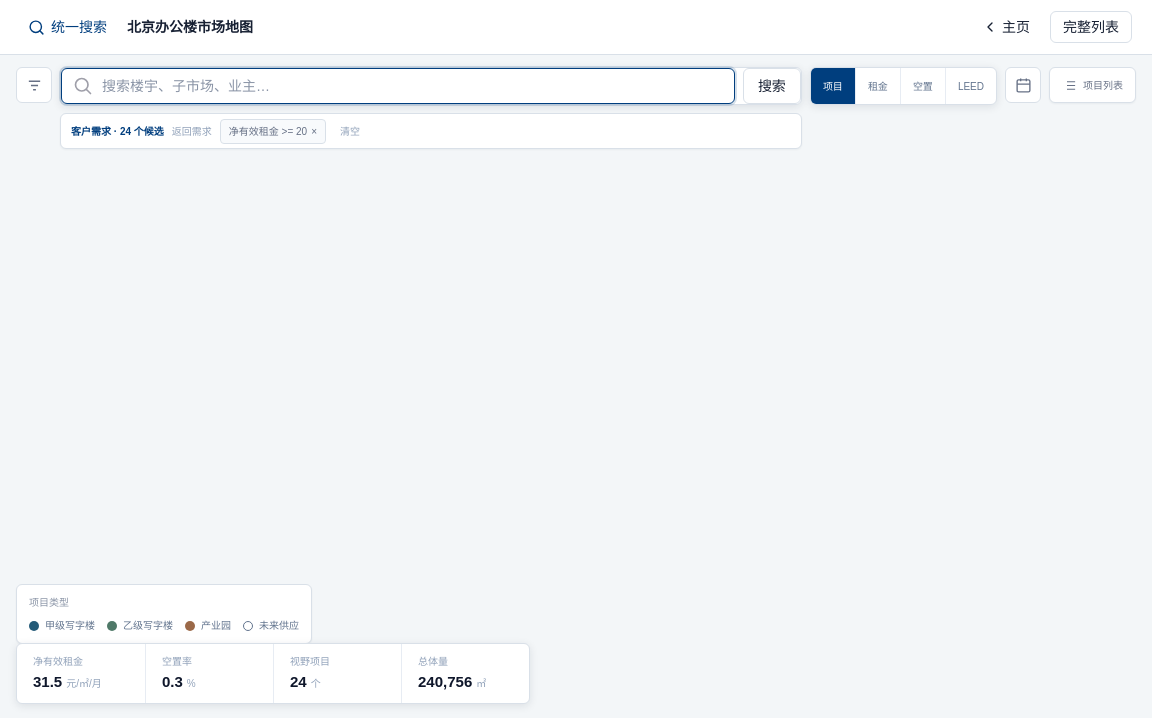
map search retains the active input › shares the query with the full list and can clear it without removing existing filters
The image size is (1152, 718).
Type "北城" into the search field at (398, 86), box [61, 68, 735, 104]
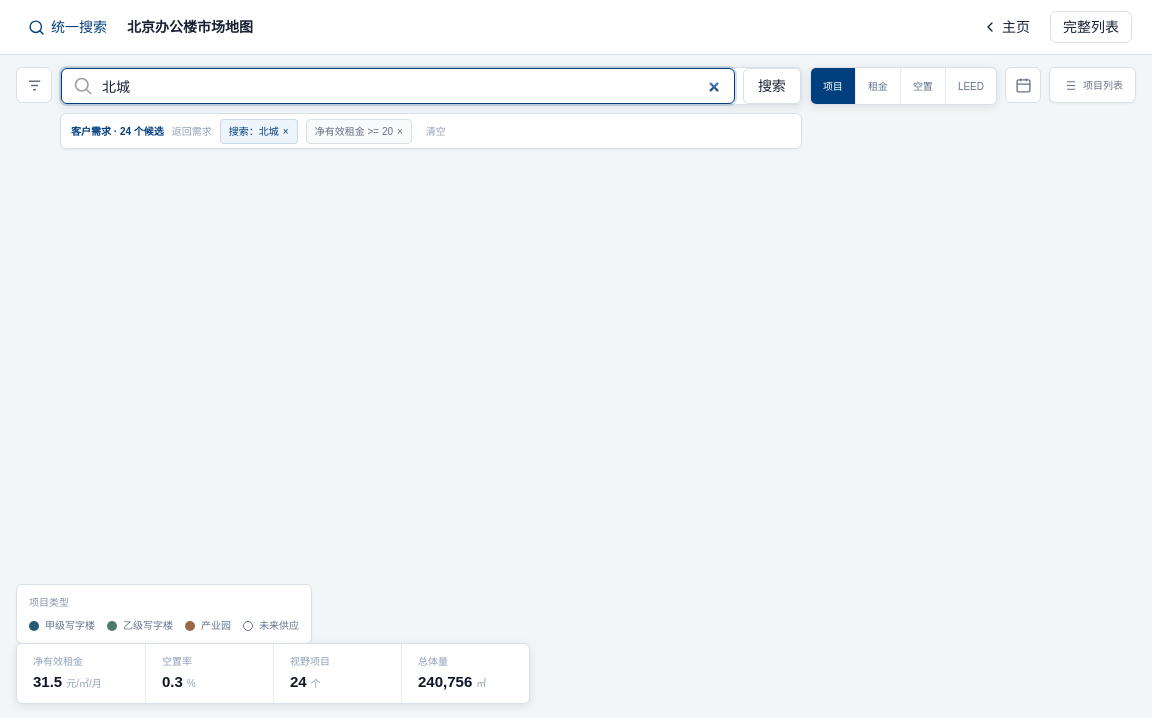
Press Enter in the search field, box [61, 68, 735, 104]
Click the button "完整列表" at (1091, 27), box [1050, 11, 1132, 43]
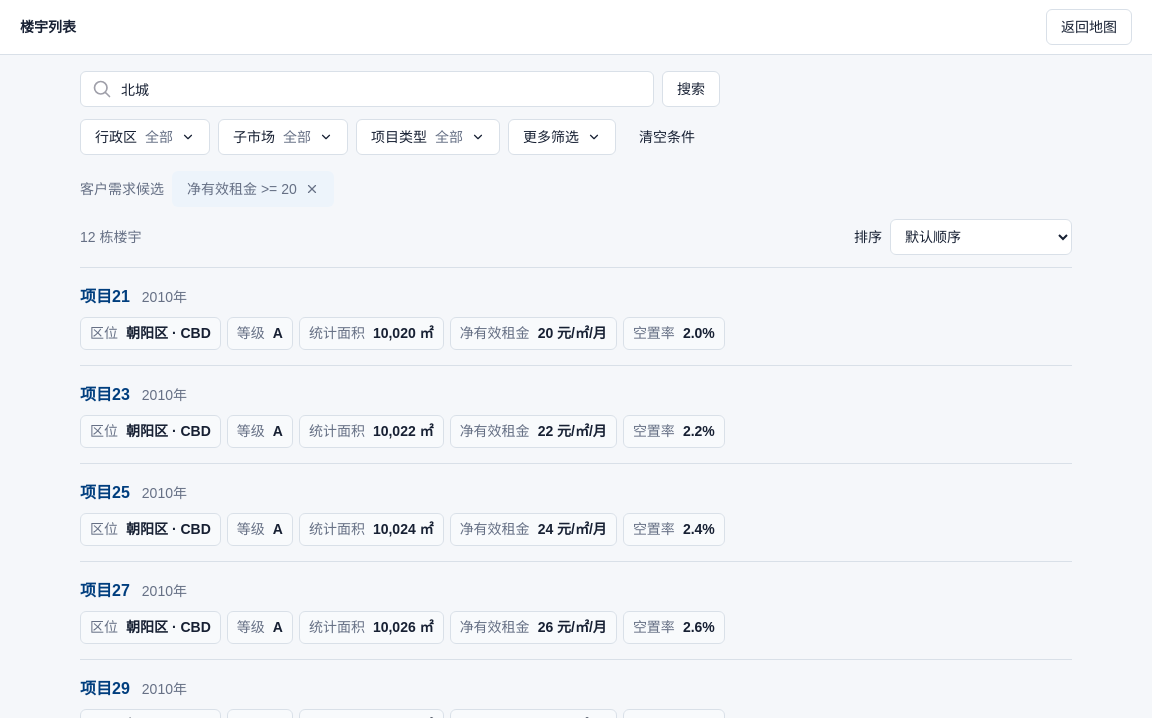
Check: the search field holds "北城", box [80, 71, 654, 107]
Check: the text "12 栋楼宇" is shown, box [80, 226, 142, 248]
Click the button "返回地图" at (1089, 27), box [1046, 9, 1132, 45]
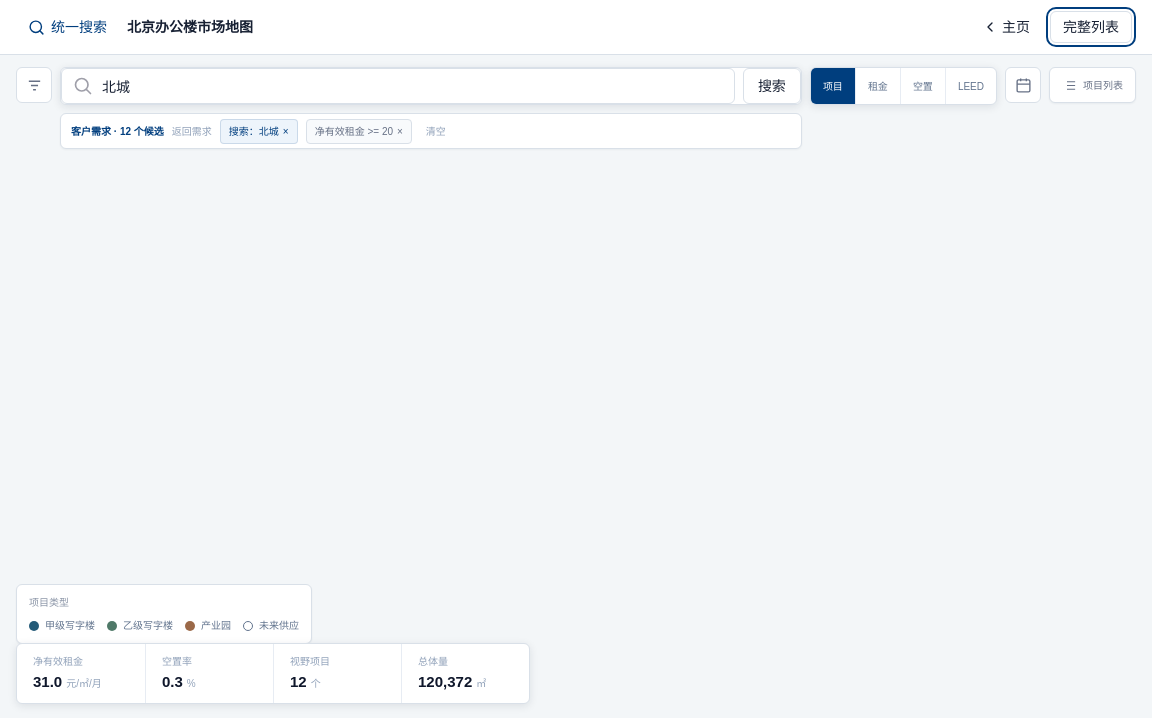
Click the button titled "清除搜索：北城" at (259, 131), box [220, 118, 298, 144]
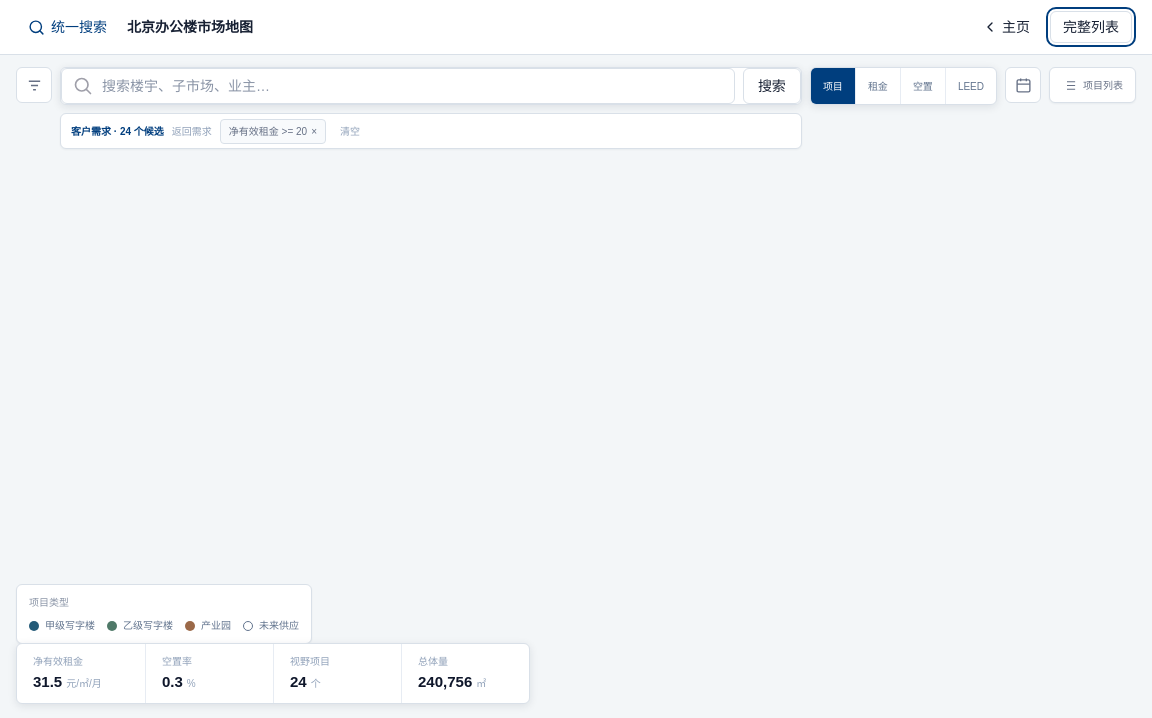
Check: the search field is empty, box [61, 68, 735, 104]
